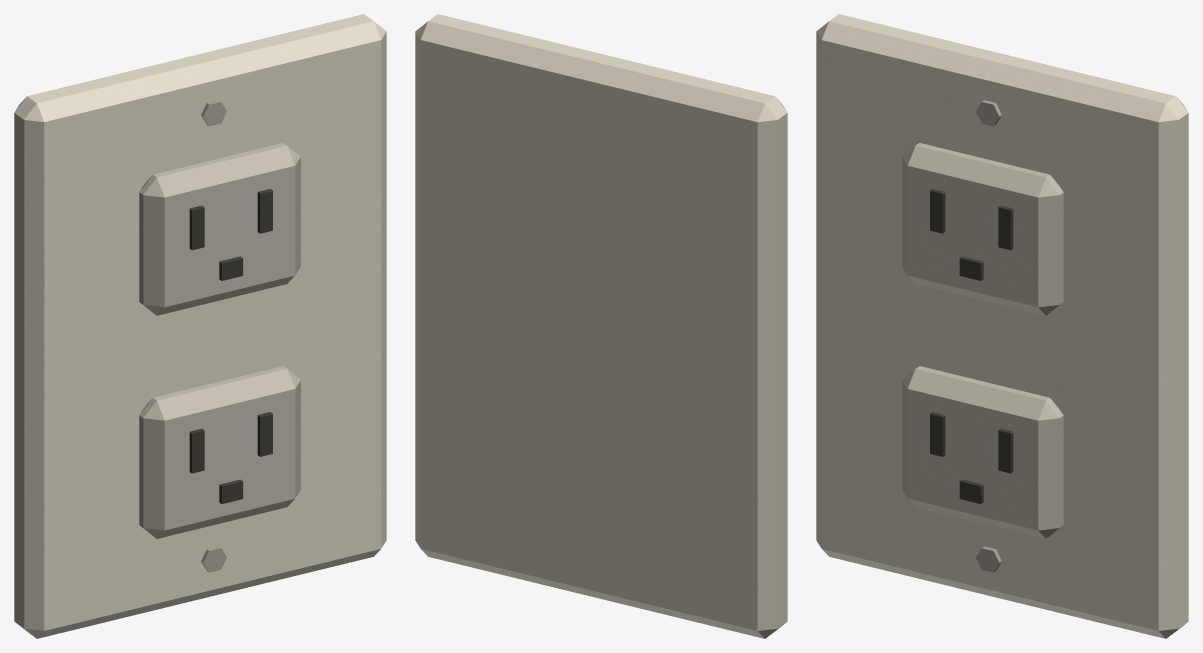
Rendered from outlet.glb.
3 views of the same model, side by side, from view 1: azimuth 30°, elevation 25°; view 2: azimuth 150°, elevation 25°; view 3: azimuth 330°, elevation 25° (orthographic).
Parts seen in each view (by area): view 1: home_outlet; view 2: home_outlet; view 3: home_outlet.
Part boxes in pixels (x1,y1,x2,y2): home_outlet: [14, 14, 386, 638]; home_outlet: [415, 14, 787, 638]; home_outlet: [816, 14, 1188, 638].
Size of the model in its own units: 0.085 by 0.12 by 0.018.
1 material, 1 textured.
